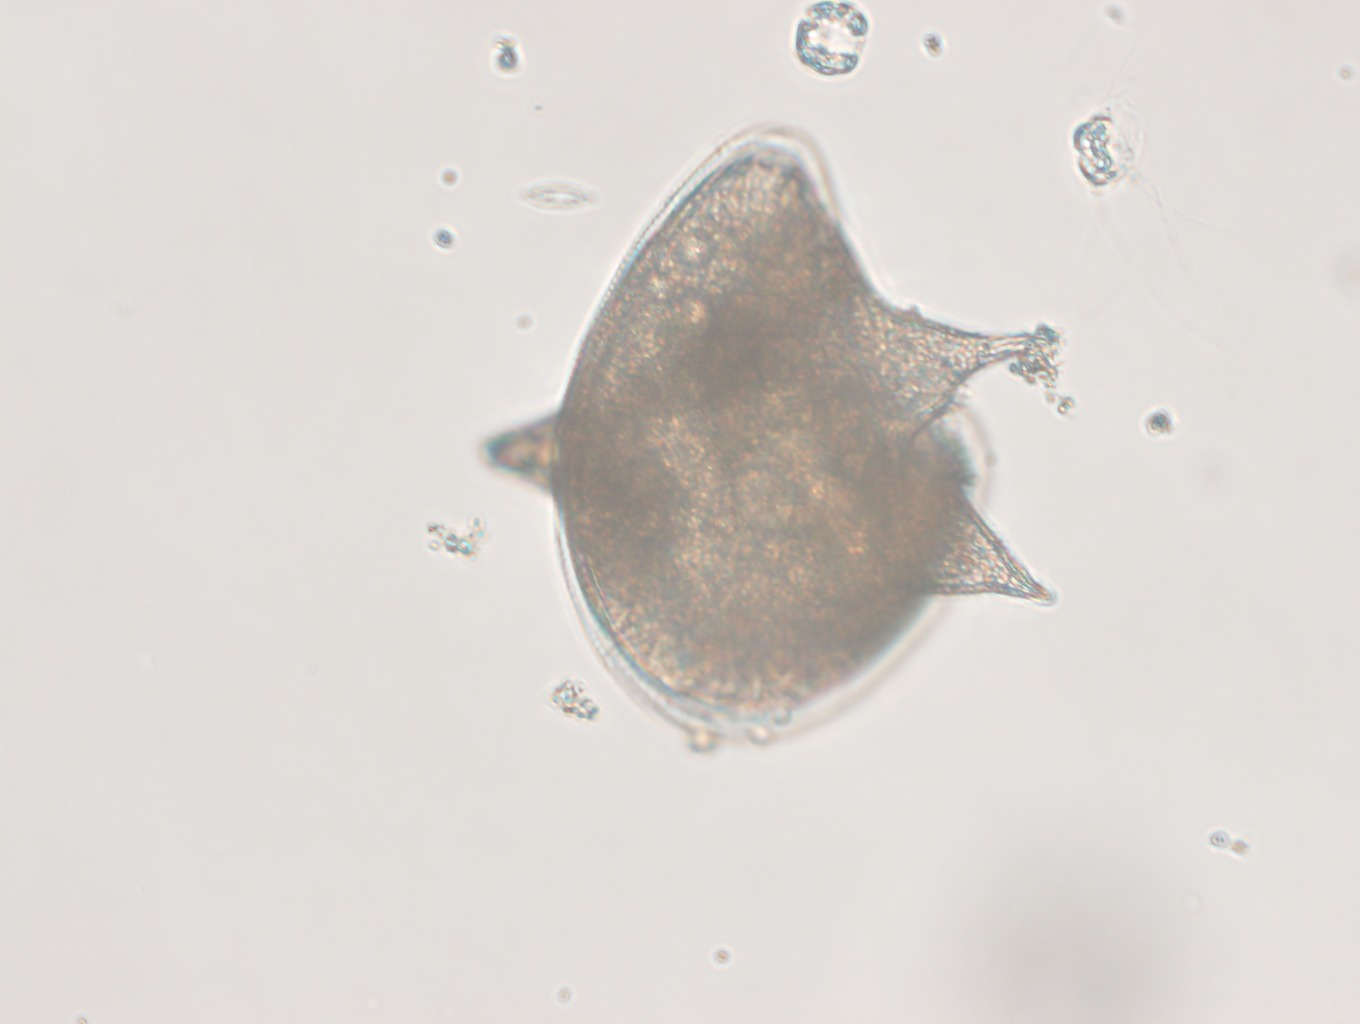protoperidinium: (450, 106, 1114, 780)
